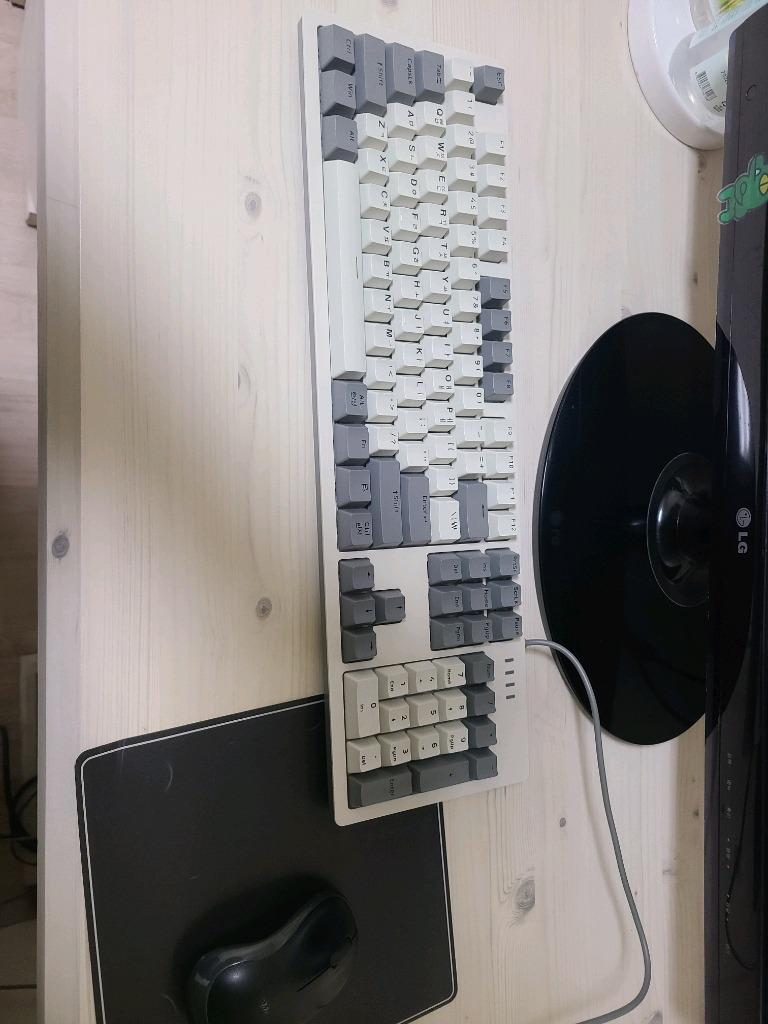keyboard: (297, 12, 530, 827)
mouse: (184, 888, 359, 1023)
